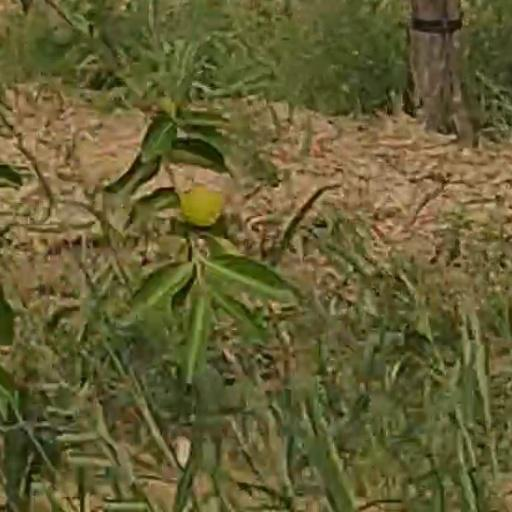acerola_verde: (180, 188, 222, 225)
